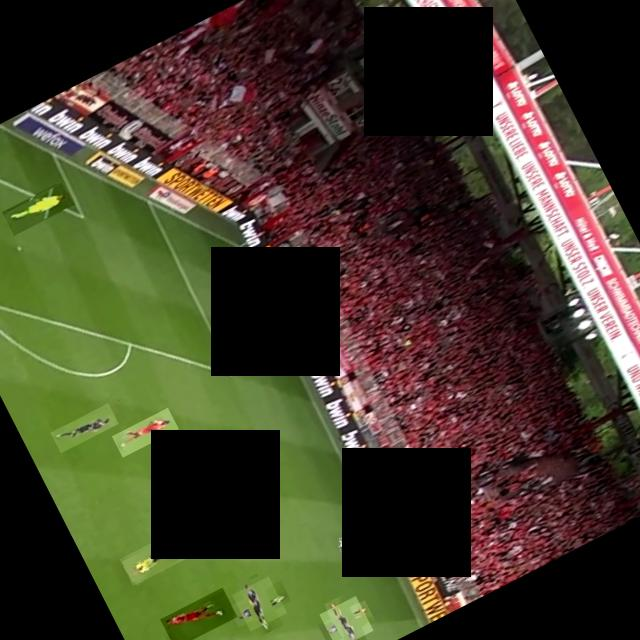goalkeeper: (1, 181, 75, 236)
referee: (118, 531, 188, 586)
soccer-player: (159, 588, 236, 640), (156, 461, 224, 514), (50, 404, 118, 454), (111, 408, 178, 458), (336, 516, 400, 566), (232, 576, 286, 632), (226, 434, 280, 488), (157, 432, 216, 474), (319, 596, 373, 640)
